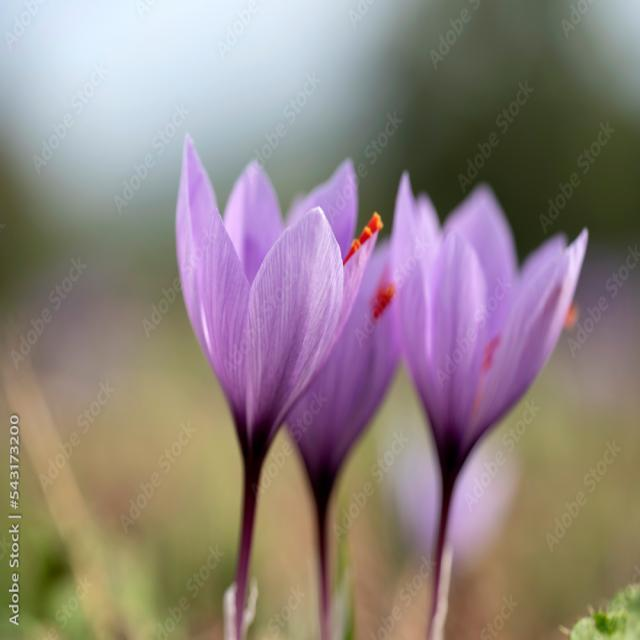saffron open: (176, 137, 380, 639), (391, 172, 588, 639), (286, 244, 400, 639)
